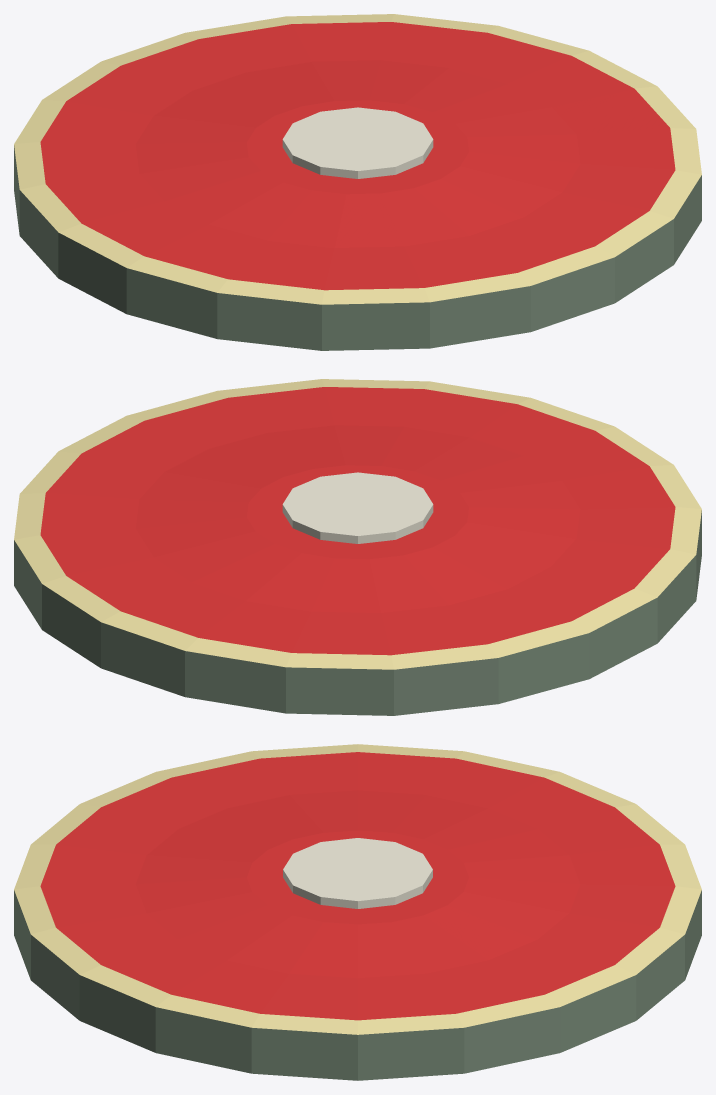
File: cap_hip.glb
3 renders of one model, top to bottom at view 1: azimuth 30°, elevation 25°; view 2: azimuth 150°, elevation 25°; view 3: azimuth 270°, elevation 25°, orthographic.
Parts seen in each view (by area): view 1: OUT; view 2: OUT; view 3: OUT.
Boxes of the visible parts, bbox=[...] form: OUT: bbox=[14, 14, 701, 350]; OUT: bbox=[14, 379, 701, 715]; OUT: bbox=[14, 744, 701, 1080].
Size of the model in its own units: 0.156 by 0.0165 by 0.156.
